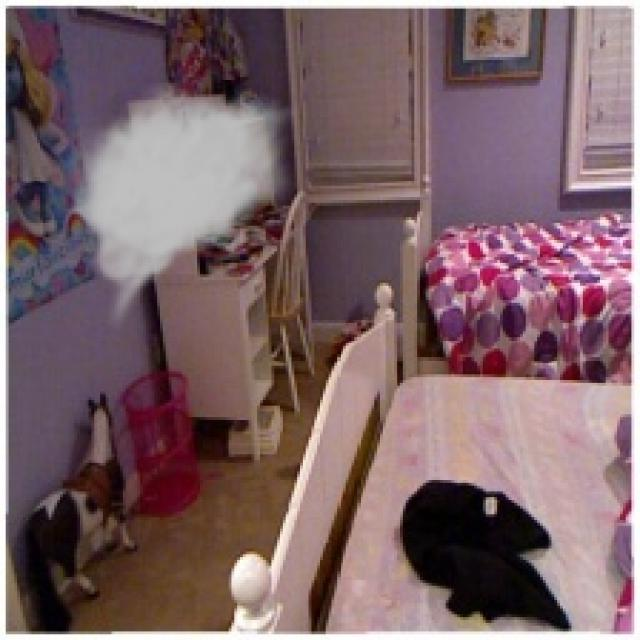smoke: (63, 83, 300, 331)
